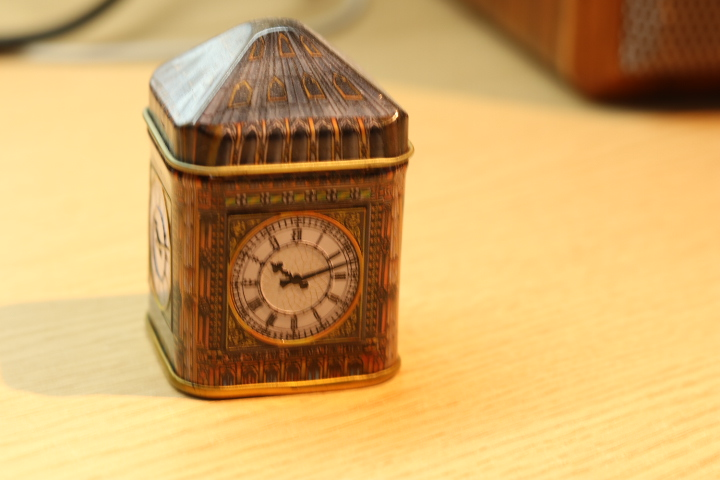Big Ben: (134, 12, 450, 410)
